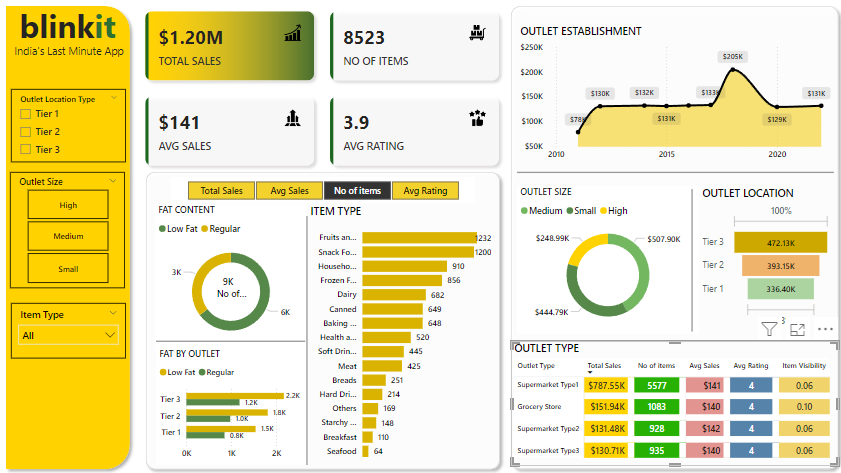

The page's visual inventory and layout, read from the dashboard file:
{"tool":"powerbi","page":{"name":"Page 1","canvas":[1280,720],"ordinal":0},"visuals":[{"type":"shape","box":[0,0,205.7,720],"z":0},{"type":"textbox","box":[17.6,0,168.3,74.6],"z":1000},{"type":"textbox","box":[17.1,60,185.7,51.4],"z":2000},{"type":"cardVisual","fields":{"Data":["BlinkIT Grocery Data.Total Sales","BlinkIT Grocery Data.Avg Sales","BlinkIT Grocery Data.No of items","BlinkIT Grocery Data.Avg Rating"]},"box":[202.9,0,570,268.6],"z":3000},{"type":"shape","box":[211.4,251.4,554.3,468.6],"z":4000},{"type":"slicer","fields":{"Values":["Metrics.Metrics"]},"box":[258.3,268.3,460,40],"z":5002},{"type":"donutChart","title":"FAT CONTENT","fields":{"Category":["BlinkIT Grocery Data.Item Fat Content"],"Y":["BlinkIT Grocery Data.No of items"]},"box":[235,308.3,230,220],"z":5003},{"type":"cardVisual","fields":{"Data":["BlinkIT Grocery Data.No of items"]},"box":[295,401.7,100,66.7],"z":5004},{"type":"clusteredBarChart","title":"FAT BY OUTLET","fields":{"Category":["BlinkIT Grocery Data.Outlet Location Type"],"Y":["BlinkIT Grocery Data.No of items"],"Series":["BlinkIT Grocery Data.Item Fat Content"]},"box":[235.7,527.1,230,177],"z":5005},{"type":"shape","box":[236,506,226,22],"z":5006},{"type":"shape","box":[451.4,327.1,27.1,377.1],"z":5007},{"type":"barChart","title":" ITEM TYPE","fields":{"Category":["BlinkIT Grocery Data.Item Type"],"Y":["BlinkIT Grocery Data.No of items"]},"box":[465.7,308.6,284.3,397.1],"z":5008},{"type":"shape","box":[765.7,0,514.3,720],"z":5009},{"type":"lineChart","title":" OUTLET ESTABLISHMENT","fields":{"Y":["BlinkIT Grocery Data.Total Sales"],"Category":["BlinkIT Grocery Data.Outlet Establishment Year"]},"box":[783.3,36.7,480,215],"z":5010},{"type":"shape","box":[783.3,255,480,13.3],"z":5011},{"type":"donutChart","title":"OUTLET SIZE","fields":{"Y":["BlinkIT Grocery Data.Total Sales"],"Category":["BlinkIT Grocery Data.Outlet Size"]},"box":[782.9,281.4,275.7,224.3],"z":5012},{"type":"shape","box":[1037.1,285.7,21.4,215.7],"z":5013},{"type":"funnel","title":" OUTLET LOCATION","fields":{"Y":["Sum(BlinkIT Grocery Data.Sales)"],"Category":["BlinkIT Grocery Data.Outlet Location Type"]},"box":[1058.6,281.4,204.3,220],"z":5014},{"type":"shape","box":[782.9,508.6,480,14.3],"z":5015},{"type":"pivotTable","title":"OUTLET TYPE","fields":{"Rows":["BlinkIT Grocery Data.Outlet Type"],"Values":["BlinkIT Grocery Data.Total Sales","BlinkIT Grocery Data.No of items","BlinkIT Grocery Data.Avg Sales","BlinkIT Grocery Data.Avg Rating","Avg(BlinkIT Grocery Data.Item Visibility)"]},"box":[774.3,517.1,497.1,188.6],"z":5016},{"type":"slicer","fields":{"Values":["BlinkIT Grocery Data.Outlet Location Type"]},"box":[17.1,134.3,174.3,111.4],"z":5017},{"type":"slicer","fields":{"Values":["BlinkIT Grocery Data.Outlet Size"]},"box":[15.7,260,174.3,175.7],"z":5018},{"type":"slicer","fields":{"Values":["BlinkIT Grocery Data.Item Type"]},"box":[17.1,458.6,174.3,84.3],"z":5019}]}

Visuals, with their boxes in screenshot pixels (x1, y1, x2, y2), scaled from the page's 1280x720 canvas onto the 841x473 screenshot:
shape: bbox=(0, 0, 135, 472)
textbox: bbox=(12, 0, 122, 49)
textbox: bbox=(11, 39, 133, 73)
cardVisual - BlinkIT Grocery Data.Total Sales x BlinkIT Grocery Data.Avg Sales: bbox=(133, 0, 508, 176)
shape: bbox=(139, 165, 503, 472)
slicer - Metrics.Metrics: bbox=(170, 176, 472, 203)
"FAT CONTENT" donutChart: bbox=(154, 203, 306, 347)
cardVisual - BlinkIT Grocery Data.No of items: bbox=(194, 264, 260, 308)
"FAT BY OUTLET" clusteredBarChart: bbox=(155, 346, 306, 463)
shape: bbox=(155, 332, 304, 347)
shape: bbox=(297, 215, 314, 463)
" ITEM TYPE" barChart: bbox=(306, 203, 493, 464)
shape: bbox=(503, 0, 840, 472)
" OUTLET ESTABLISHMENT" lineChart: bbox=(515, 24, 830, 165)
shape: bbox=(515, 168, 830, 176)
"OUTLET SIZE" donutChart: bbox=(514, 185, 696, 332)
shape: bbox=(681, 188, 695, 329)
" OUTLET LOCATION" funnel: bbox=(696, 185, 830, 329)
shape: bbox=(514, 334, 830, 344)
"OUTLET TYPE" pivotTable: bbox=(509, 340, 835, 464)
slicer - BlinkIT Grocery Data.Outlet Location Type: bbox=(11, 88, 126, 161)
slicer - BlinkIT Grocery Data.Outlet Size: bbox=(10, 171, 125, 286)
slicer - BlinkIT Grocery Data.Item Type: bbox=(11, 301, 126, 357)
